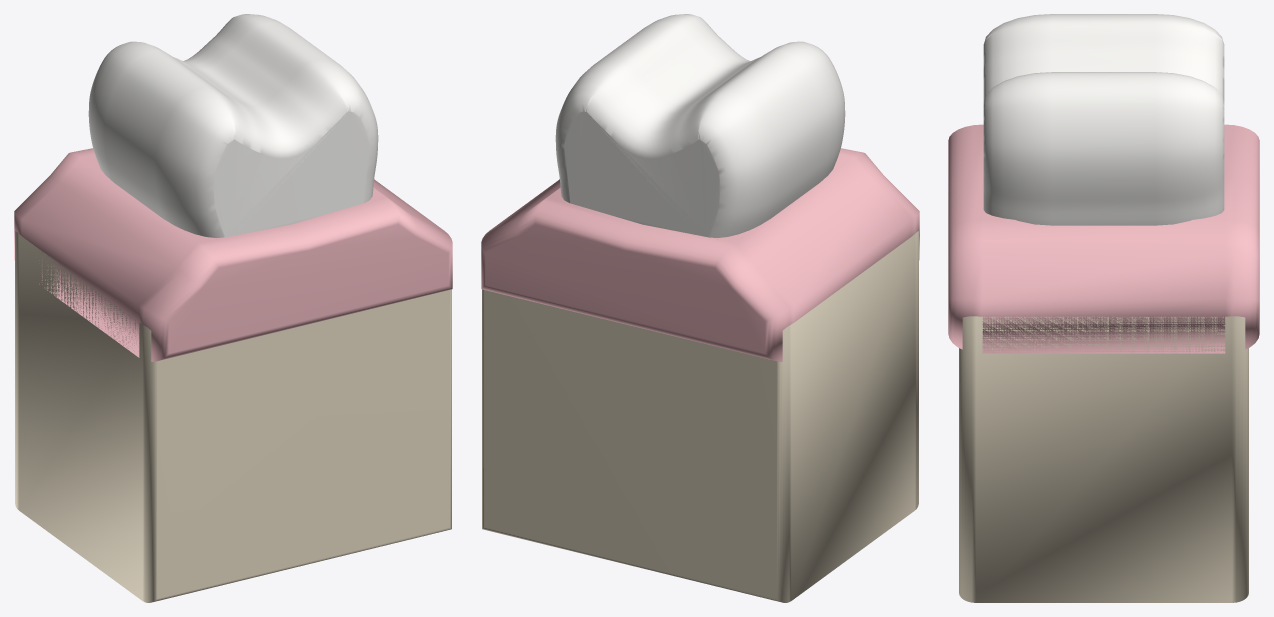
File: tooth.glb
The picture shows the model from 3 angles, left to right: view 1: azimuth 30°, elevation 25°; view 2: azimuth 150°, elevation 25°; view 3: azimuth 270°, elevation 25°; orthographic projection. The views are drawn at different scales.
Visible parts, largest first — view 1: bone, gum, enamel; view 2: bone, enamel, gum; view 3: bone, enamel, gum.
Part boxes in pixels (bbox=[...]): bone: bbox=[15, 231, 451, 602]; gum: bbox=[14, 148, 452, 361]; enamel: bbox=[88, 14, 378, 237]; bone: bbox=[482, 231, 918, 602]; enamel: bbox=[555, 14, 845, 237]; gum: bbox=[481, 148, 919, 361]; bone: bbox=[959, 316, 1248, 602]; enamel: bbox=[983, 14, 1224, 225]; gum: bbox=[948, 124, 1259, 353].
Size of the model in its own units: 0.017 by 0.0252 by 0.0145.
